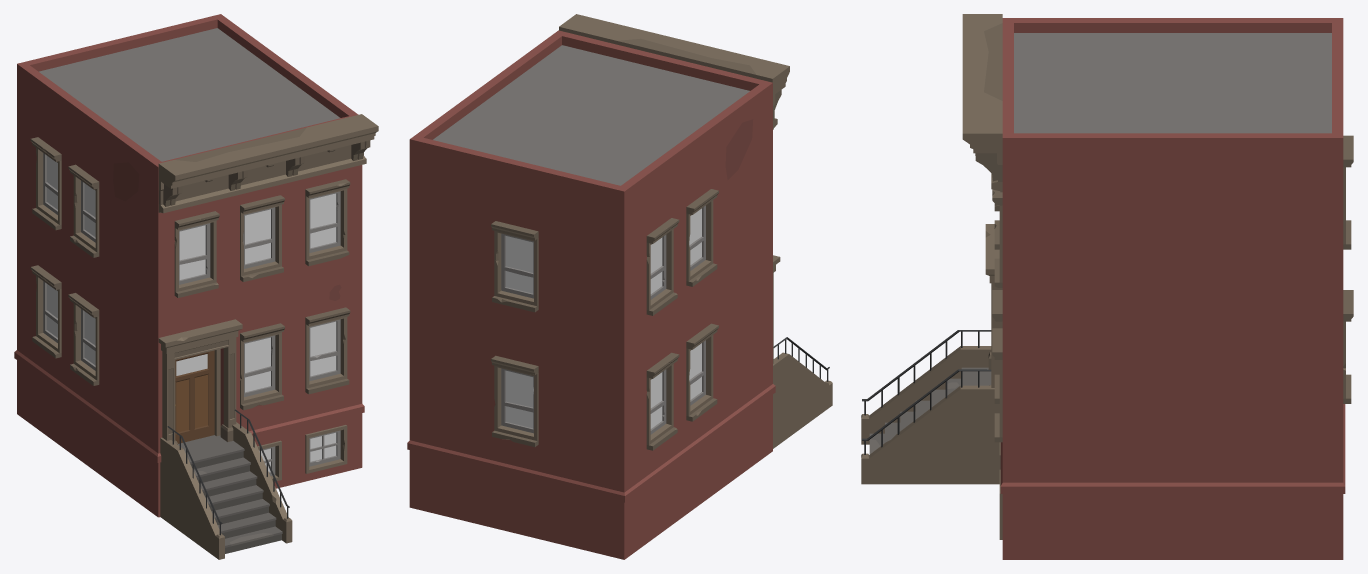
Rendered from SM_Bldg_City_Apartment_T1_2Floor_Corner.fbx.
3 views of the same model, side by side, from view 1: azimuth 30°, elevation 25°; view 2: azimuth 150°, elevation 25°; view 3: azimuth 270°, elevation 25° (orthographic). The views are drawn at different scales.
Visible parts, largest first — view 1: SM_Bldg_City_Apartment_T1_2Floor_Corner, SM_Bldg_City_Apartment_T1_2Floor_Corner_Glass, SM_Bldg_City_Apartment_T1_2Floor_Corner_Door; view 2: SM_Bldg_City_Apartment_T1_2Floor_Corner, SM_Bldg_City_Apartment_T1_2Floor_Corner_Glass; view 3: SM_Bldg_City_Apartment_T1_2Floor_Corner.
Boxes of the visible parts, bbox=[...] form: SM_Bldg_City_Apartment_T1_2Floor_Corner: bbox=[14, 14, 378, 559]; SM_Bldg_City_Apartment_T1_2Floor_Corner_Glass: bbox=[47, 156, 336, 471]; SM_Bldg_City_Apartment_T1_2Floor_Corner_Door: bbox=[175, 350, 214, 443]; SM_Bldg_City_Apartment_T1_2Floor_Corner: bbox=[407, 14, 832, 559]; SM_Bldg_City_Apartment_T1_2Floor_Corner_Glass: bbox=[506, 208, 701, 428]; SM_Bldg_City_Apartment_T1_2Floor_Corner: bbox=[861, 14, 1353, 559].
Size of the model in its own units: 522 by 828 by 867.
